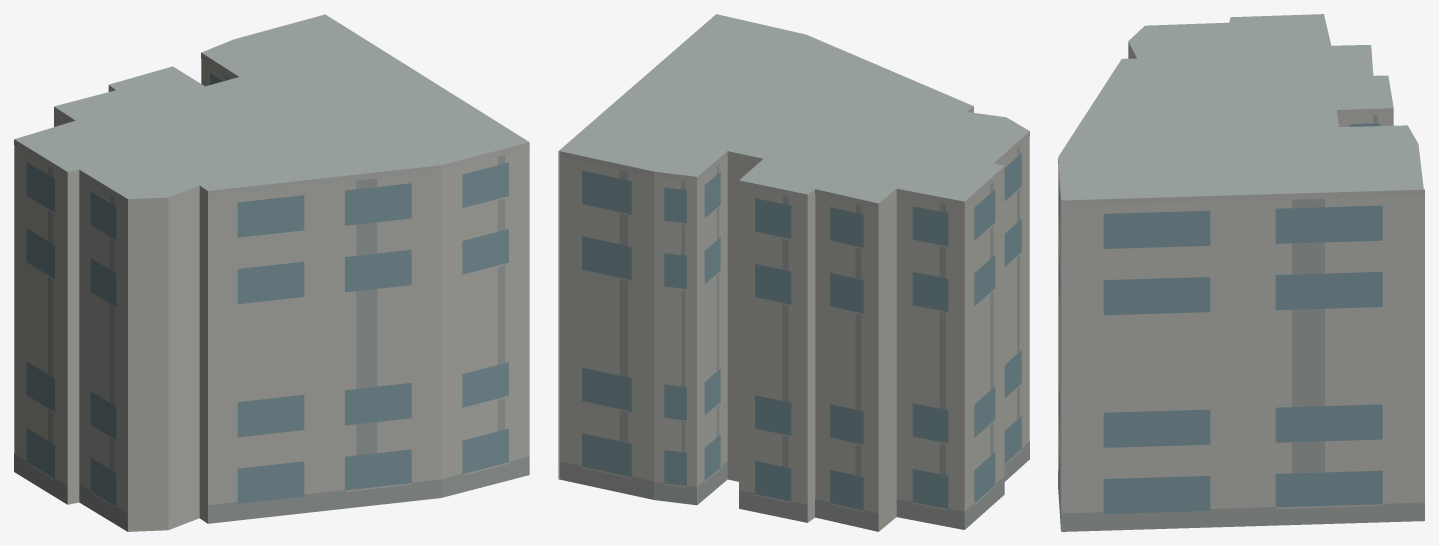
The model's file is survey-upis-32610093.glb.
3 renders of one model, left to right at view 1: azimuth 30°, elevation 25°; view 2: azimuth 150°, elevation 25°; view 3: azimuth 270°, elevation 25°, orthographic.
Visible parts, largest first — view 1: survey-upis-32610093.tmp; view 2: survey-upis-32610093.tmp; view 3: survey-upis-32610093.tmp.
Part boxes in pixels (x1,y1,x2,y2): survey-upis-32610093.tmp: [14, 14, 529, 531]; survey-upis-32610093.tmp: [558, 14, 1029, 531]; survey-upis-32610093.tmp: [1058, 14, 1424, 531].
Size of the model in its own units: 15.93 by 13.2 by 13.24.
